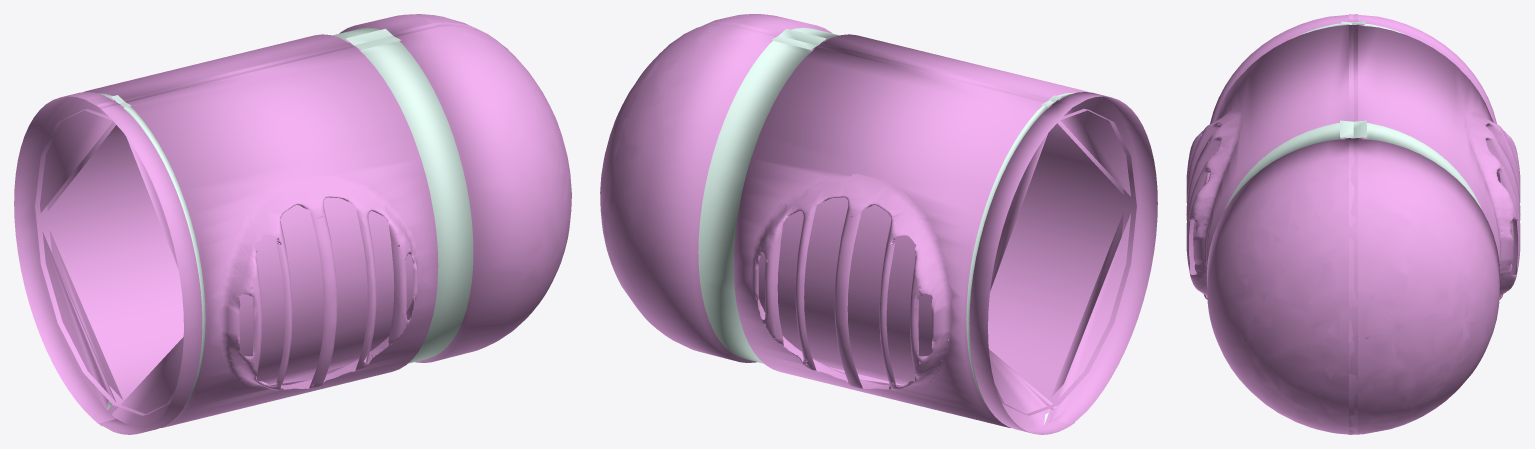
File: end piece.fbx
3 renders of one model, left to right at view 1: azimuth 30°, elevation 25°; view 2: azimuth 150°, elevation 25°; view 3: azimuth 270°, elevation 25°, orthographic. The views are drawn at different scales.
Visible parts, largest first — view 1: end_piece; view 2: end_piece; view 3: end_piece.
Boxes of the visible parts, x1,y1,x2,y2 form: end_piece: (14, 14, 571, 434); end_piece: (600, 14, 1157, 434); end_piece: (1186, 14, 1520, 434).
Bounding box in the file's own units: 168 × 115 × 126.
